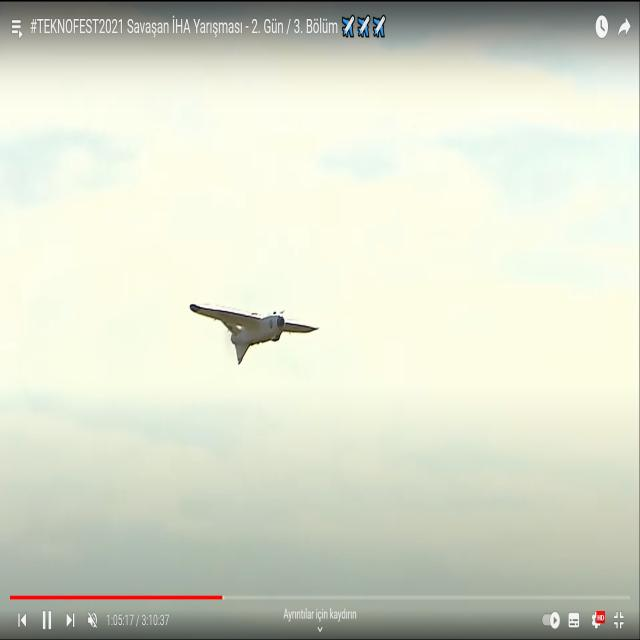iha: (188, 324, 319, 327)
